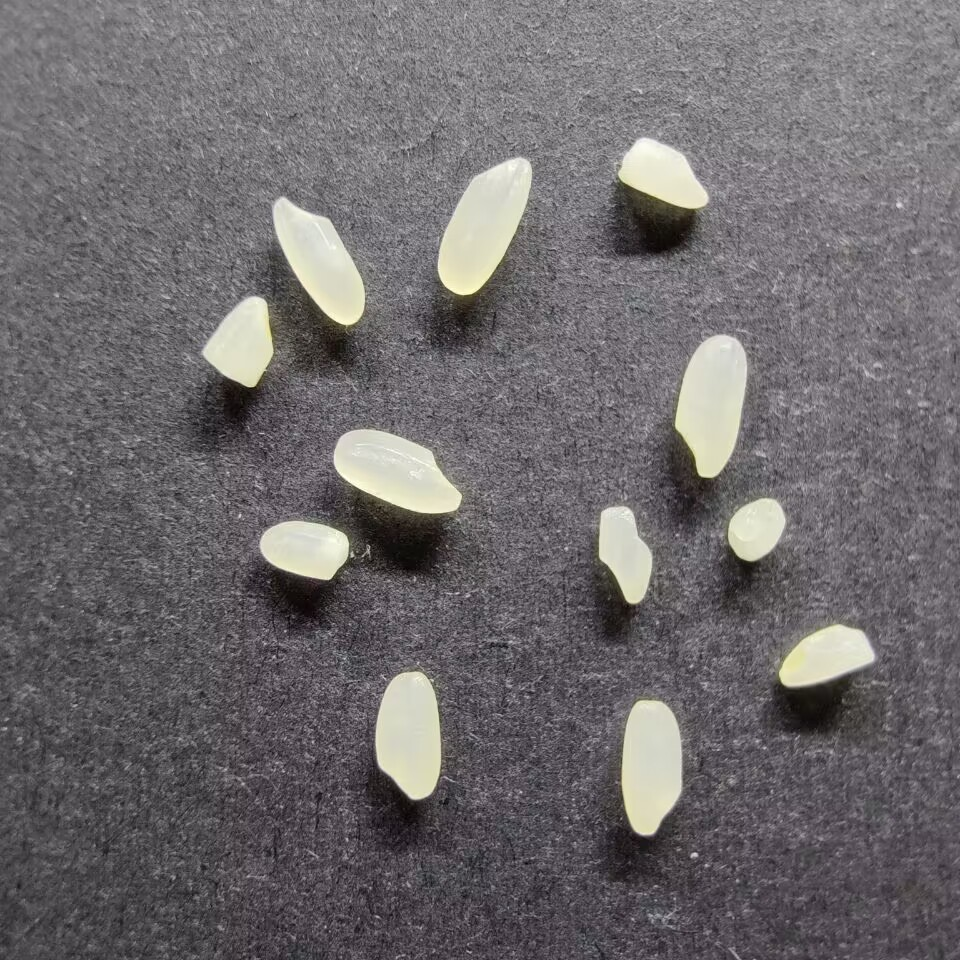broken: (199, 295, 274, 389), (616, 136, 708, 209), (778, 623, 876, 689), (258, 520, 349, 582), (596, 506, 652, 605), (725, 498, 787, 562)
rice: (435, 156, 532, 296), (271, 197, 366, 326), (331, 428, 462, 515), (673, 334, 748, 478), (373, 670, 441, 801), (620, 699, 683, 836)
